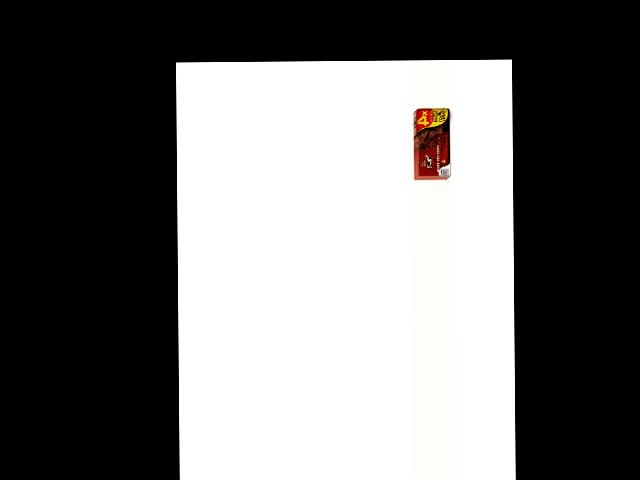chocolate: (413, 107, 452, 178)
